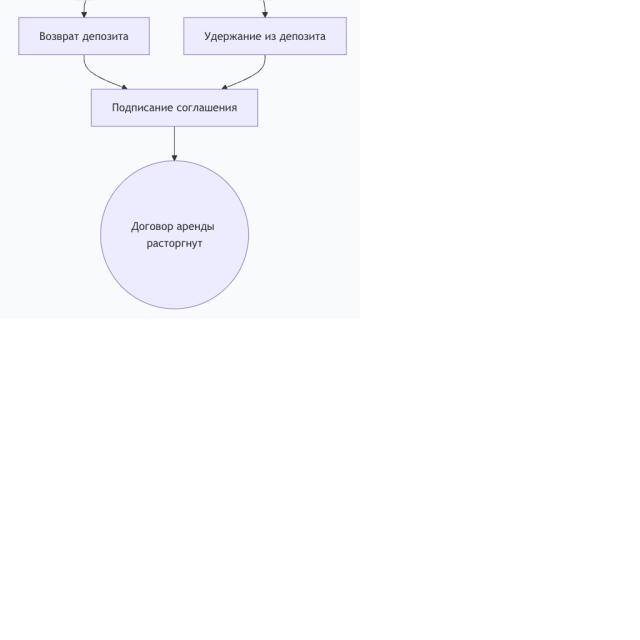arrow: (222, 55, 266, 89), (84, 56, 127, 89), (160, 124, 187, 163)
circle: (101, 161, 248, 308)
rectangle: (184, 17, 346, 55), (92, 89, 258, 126), (19, 17, 149, 55)
